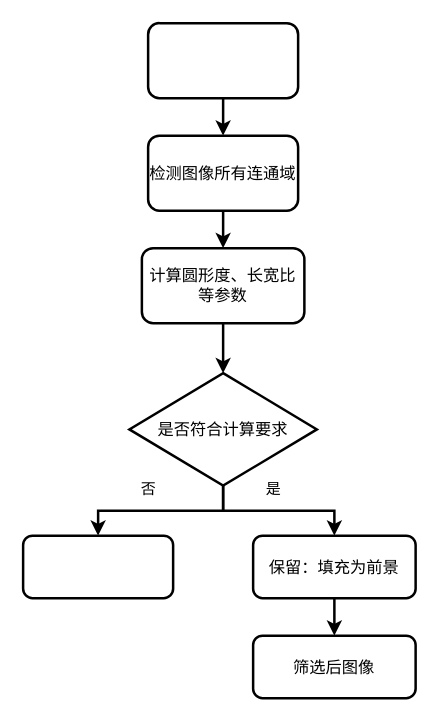
This 438x720 diagram has some shape labels left out. Here are the shapes that lost their labels. From the top down, the box of each, then its label:
(146, 21, 299, 99): 增强后图像
(21, 534, 174, 599): 去除：填充为背景
